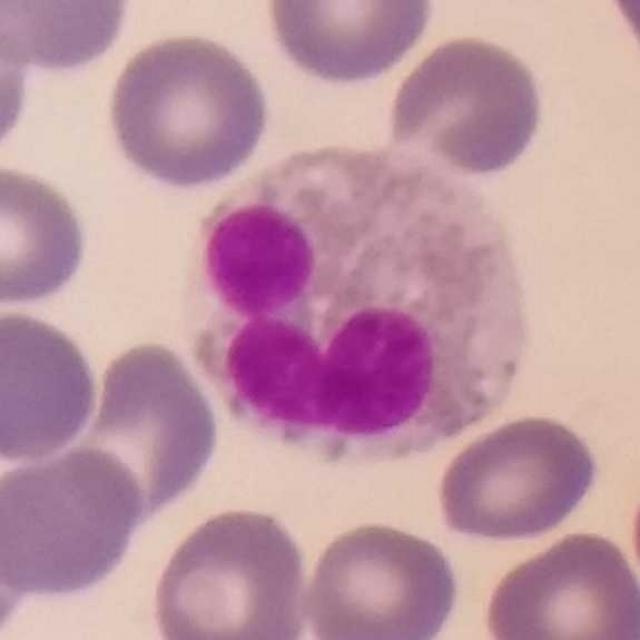Eosinophil: (190, 145, 541, 461)
RBC: (70, 336, 225, 522), (103, 28, 275, 191), (383, 30, 550, 181), (0, 442, 148, 603), (432, 409, 603, 546), (146, 502, 312, 640), (297, 516, 464, 640), (478, 527, 640, 640), (0, 304, 102, 465), (259, 0, 440, 89), (0, 157, 91, 313), (0, 0, 136, 76), (0, 473, 38, 640), (0, 1, 36, 165), (596, 1, 640, 80)
